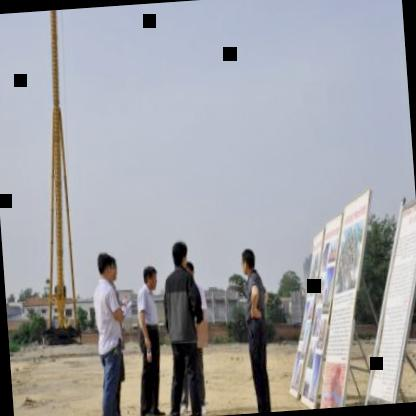head: (166, 237, 192, 273), (92, 249, 119, 283), (140, 260, 160, 294), (238, 244, 257, 275)
